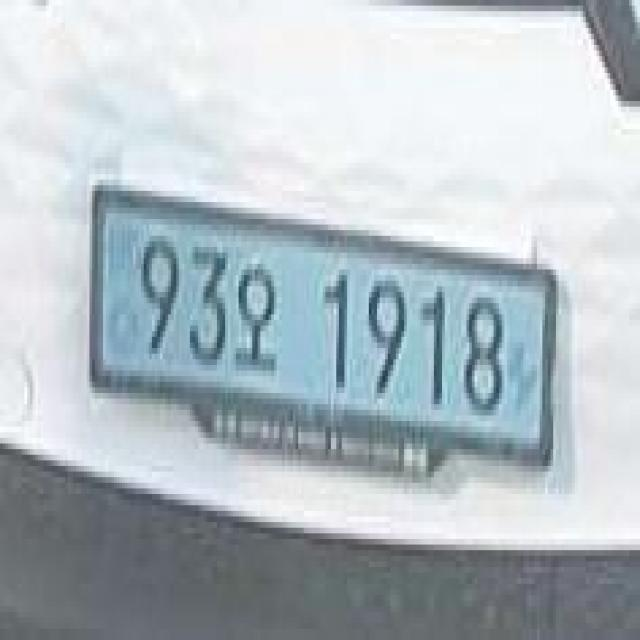EV_plate: (89, 170, 561, 516)
